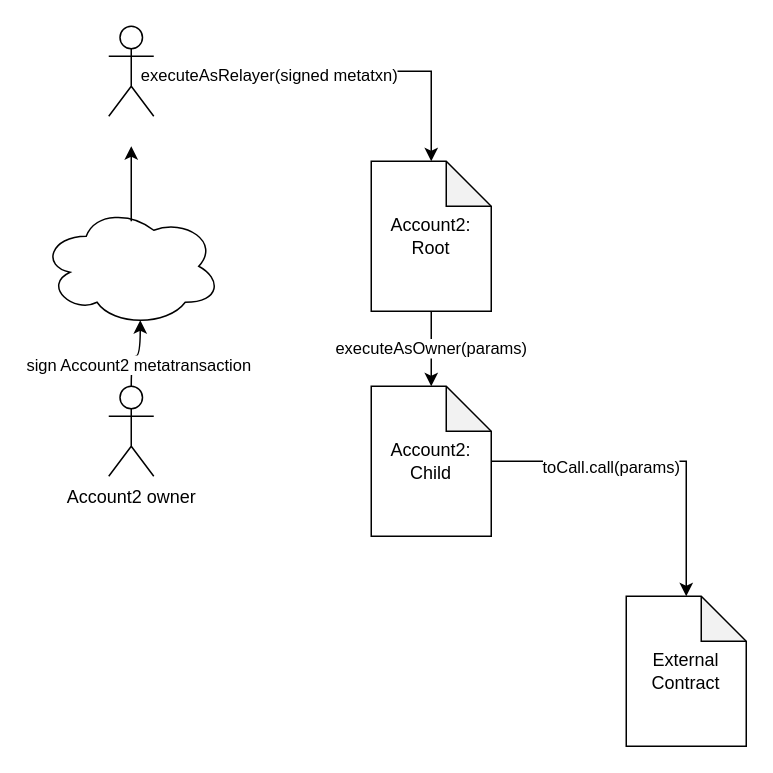
This 773x773 diagram has some shape labels left out. The centre of each missing label's shape, as x and y in pixels:
mempool: point (130, 265)
Relayer: point (130, 70)
